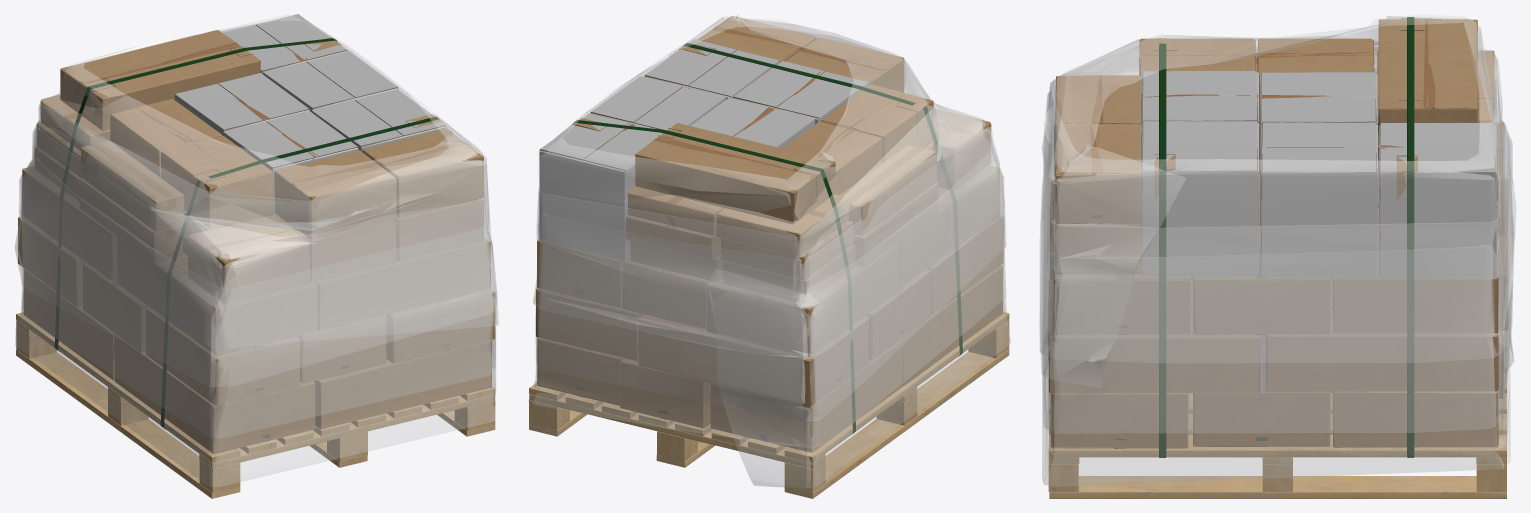
File: pallet_load_mixed.glb
3 views of the same model, side by side, from view 1: azimuth 30°, elevation 25°; view 2: azimuth 150°, elevation 25°; view 3: azimuth 270°, elevation 25° (orthographic). The views are drawn at different scales.
Visible parts, largest first — view 1: pallet_load_mixed_mesh; view 2: pallet_load_mixed_mesh; view 3: pallet_load_mixed_mesh.
Boxes of the visible parts, x1=… form: pallet_load_mixed_mesh: x1=14, y1=14, x2=498, y2=498; pallet_load_mixed_mesh: x1=528, y1=14, x2=1010, y2=498; pallet_load_mixed_mesh: x1=1039, y1=14, x2=1516, y2=498.
Size of the model in its own units: 1.07 by 0.9962 by 1.25.
6 materials, 3 textured.
